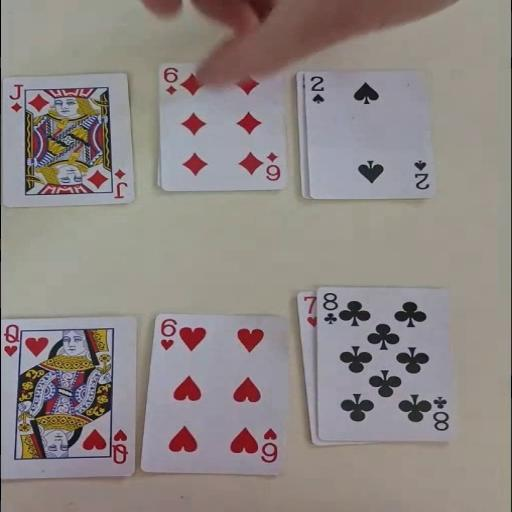2: (411, 158, 431, 190), (308, 74, 326, 104)
6: (258, 426, 279, 463), (158, 316, 178, 352), (263, 150, 282, 182)
8: (430, 394, 450, 432), (320, 290, 339, 325)
J: (6, 82, 24, 114), (111, 167, 128, 199)
Q: (108, 427, 130, 465), (2, 322, 20, 357)
